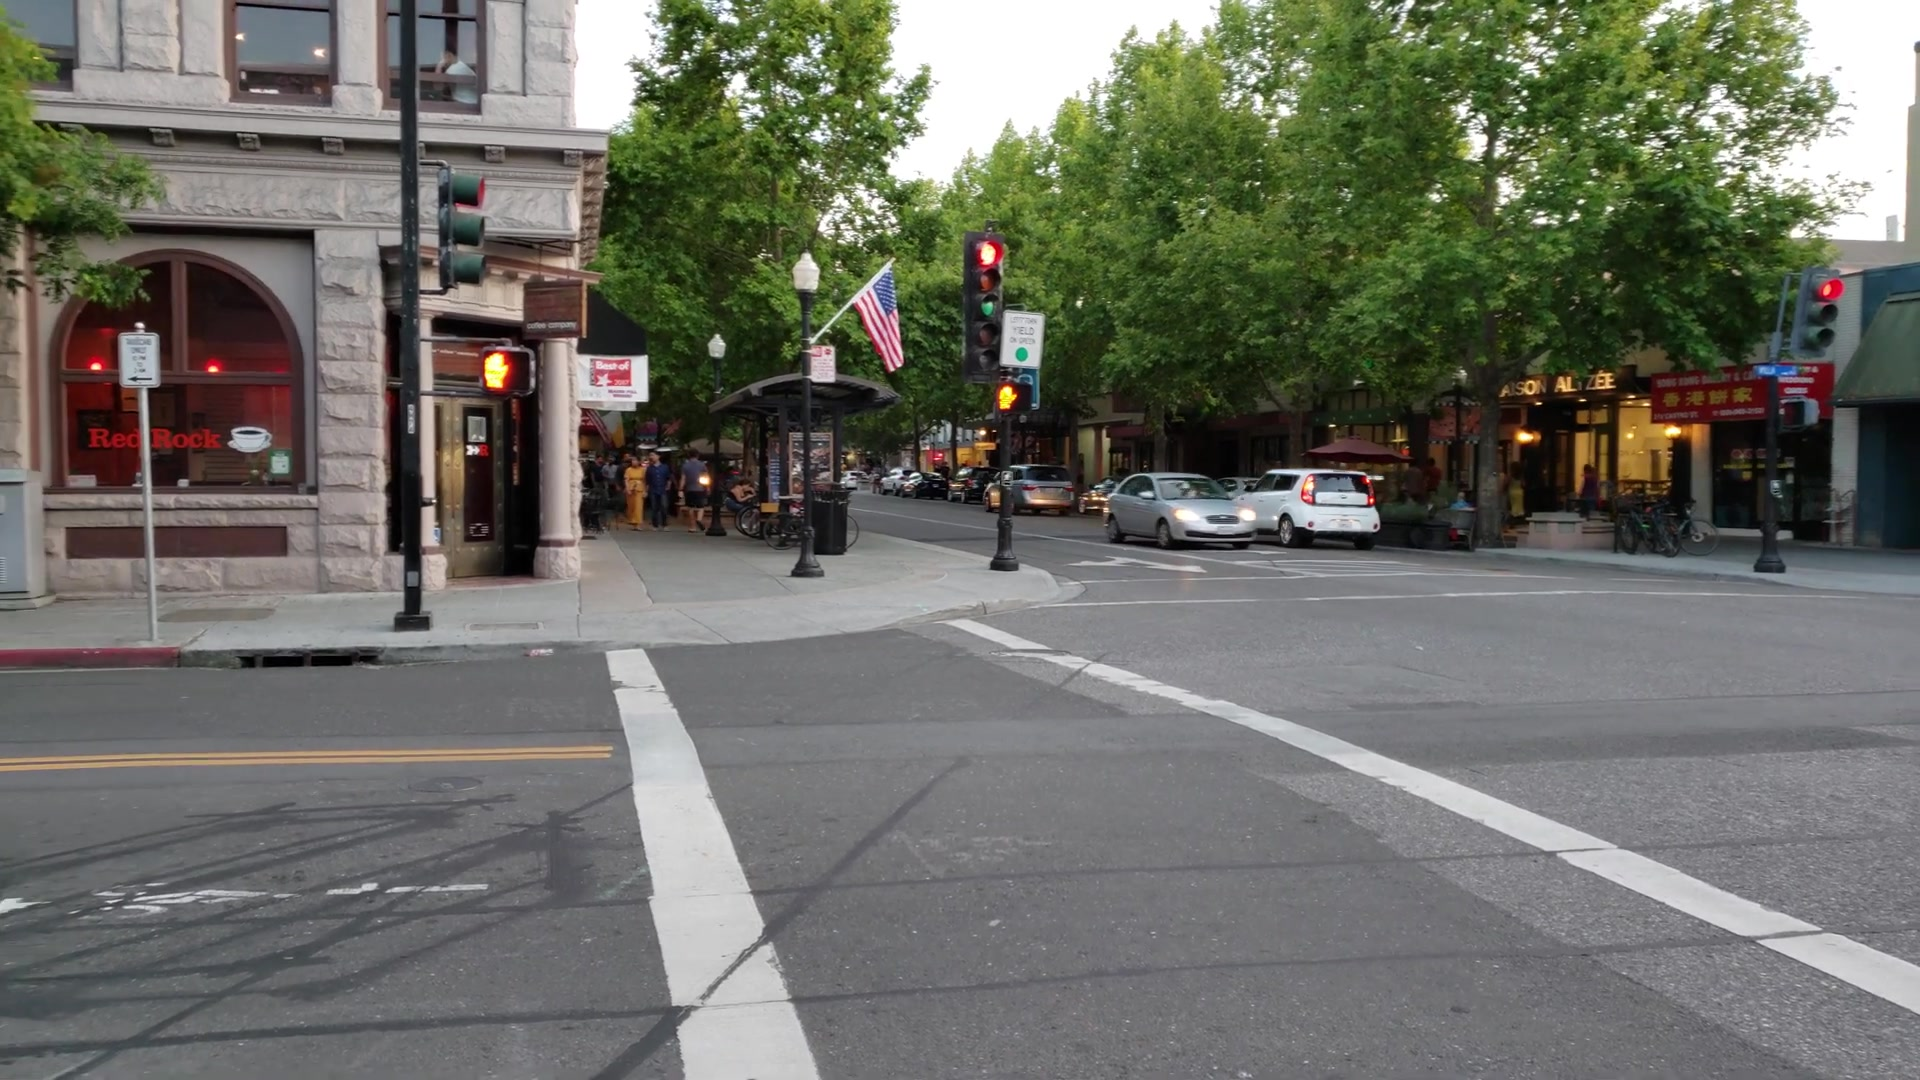vehicle: (1102, 472, 1259, 545), (1241, 469, 1379, 546)
